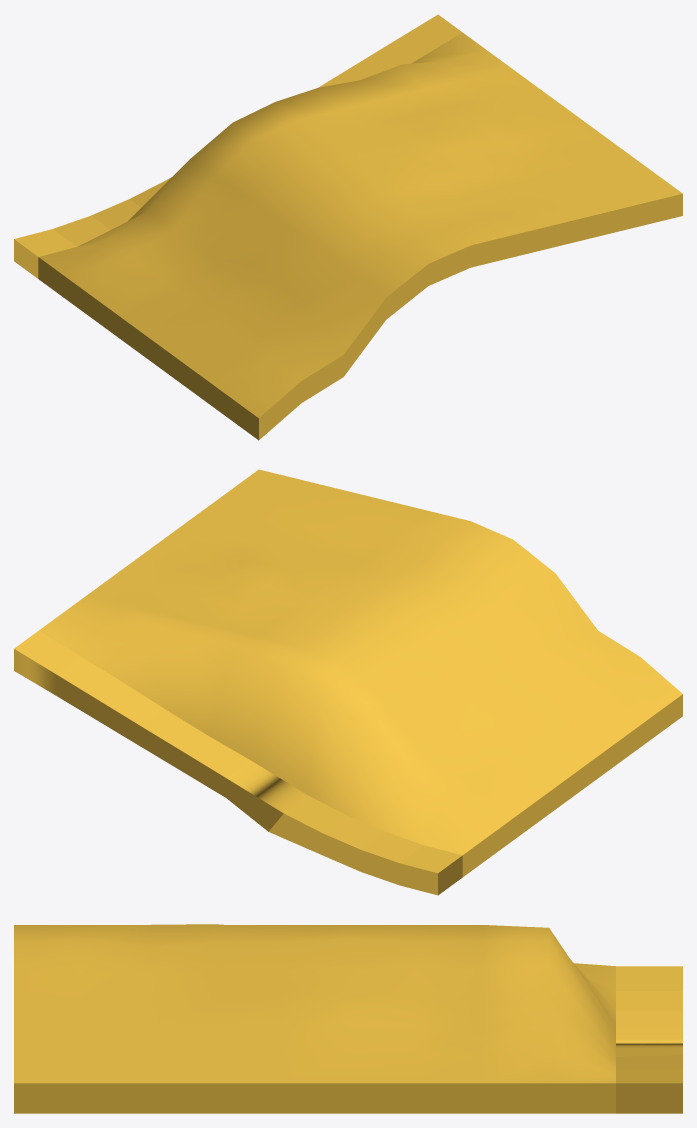
Rendered from Flach - Unten - Hügle x - b.fbx.
3 views of the same model, one above another, from view 1: azimuth 30°, elevation 25°; view 2: azimuth 150°, elevation 25°; view 3: azimuth 270°, elevation 25° (orthographic). The views are drawn at different scales.
Visible parts, largest first — view 1: Flach - Unten - Hügle x - b; view 2: Flach - Unten - Hügle x - b; view 3: Flach - Unten - Hügle x - b.
Boxes of the visible parts, box(x1,y1,x2,y2) form: Flach - Unten - Hügle x - b: box(14, 14, 682, 440); Flach - Unten - Hügle x - b: box(14, 469, 682, 895); Flach - Unten - Hügle x - b: box(14, 924, 682, 1113).
Size of the model in its own units: 394 by 133 by 394.
